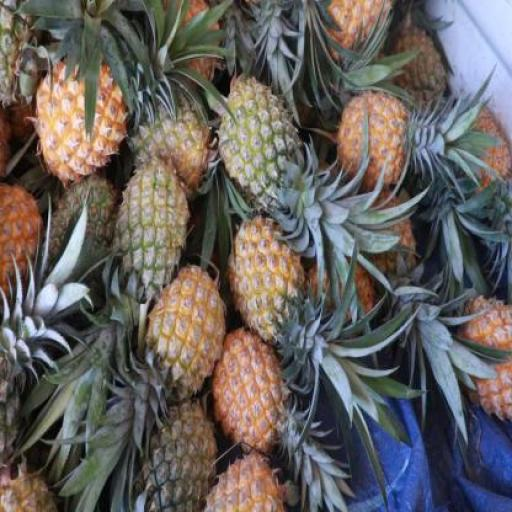------------------------------: (216, 78, 294, 206), (150, 267, 224, 399), (116, 164, 186, 298), (215, 326, 286, 452), (132, 98, 210, 185), (208, 443, 292, 512)
Pineapple - v8 v1: (37, 57, 123, 181), (228, 216, 302, 333), (339, 95, 411, 197)
